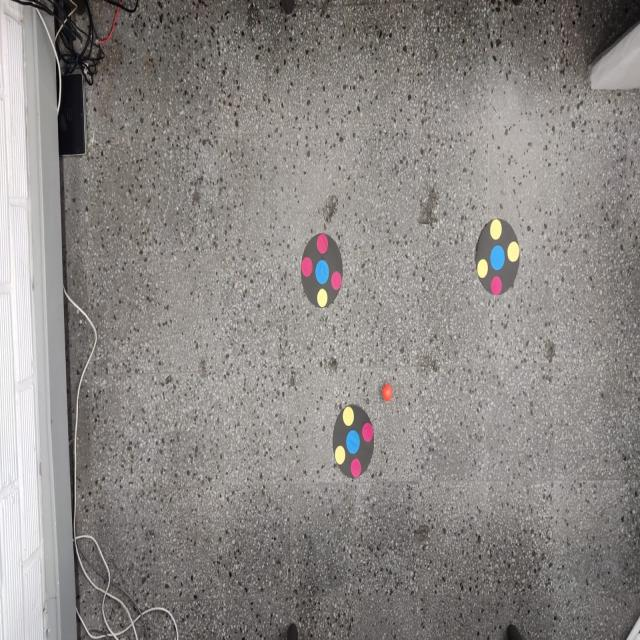0: (300, 232, 344, 310)
1: (332, 404, 376, 479)
2: (474, 218, 520, 296)
Ball: (382, 382, 394, 402)
